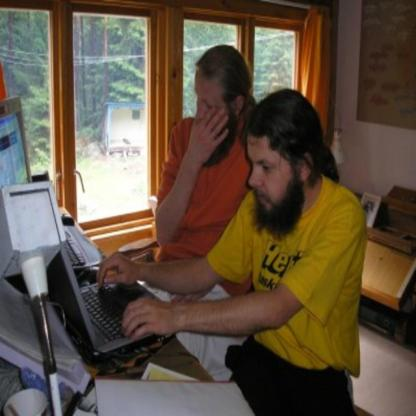board: (30, 171, 153, 373)
